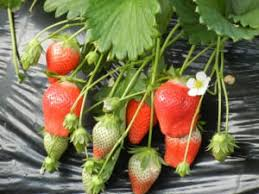ripe: (155, 78, 205, 139), (39, 78, 86, 140), (164, 124, 201, 176), (124, 92, 156, 146), (41, 40, 80, 76)
unripe: (127, 146, 162, 193), (92, 113, 123, 156), (41, 124, 69, 161), (82, 157, 109, 192), (210, 133, 232, 161)
